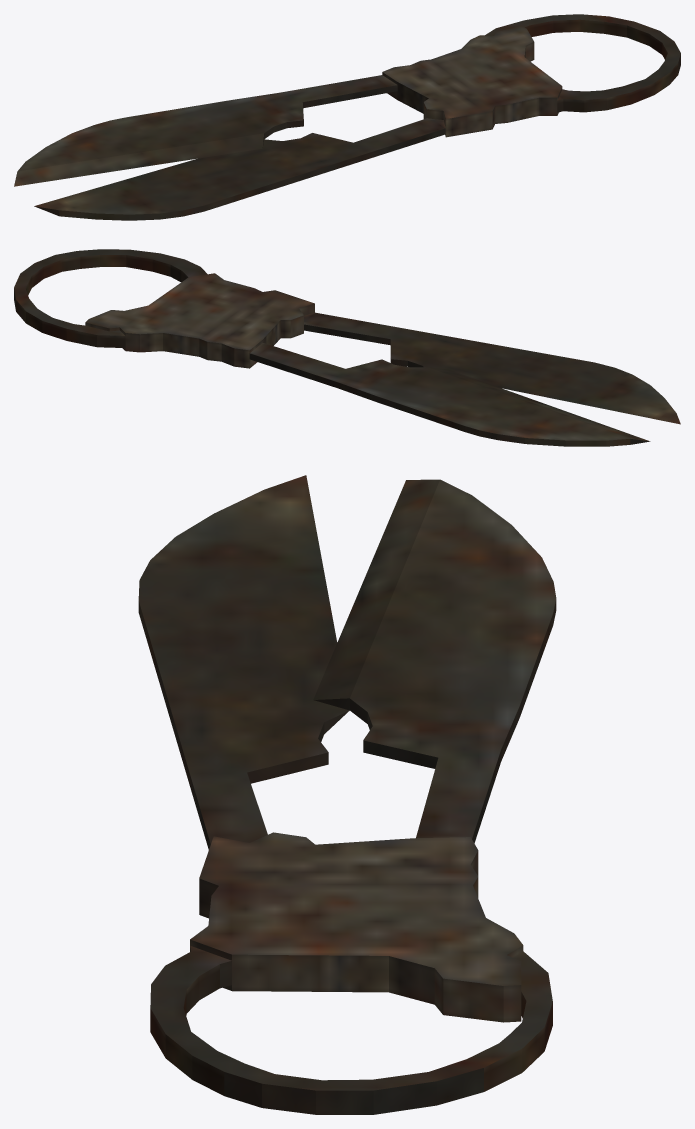
The model's file is misc_tool_mx_2.obj.
The picture shows the model from 3 angles, top to bottom: view 1: azimuth 30°, elevation 25°; view 2: azimuth 150°, elevation 25°; view 3: azimuth 270°, elevation 25°; orthographic projection. The views are drawn at different scales.
Parts seen in each view (by area): view 1: misc_tool_mx_2; view 2: misc_tool_mx_2; view 3: misc_tool_mx_2.
Part boxes in pixels (x1=…): misc_tool_mx_2: x1=14, y1=14, x2=680, y2=220; misc_tool_mx_2: x1=14, y1=249, x2=680, y2=446; misc_tool_mx_2: x1=138, y1=475, x2=556, y2=1114.
Size of the model in its own units: 0.2768 by 0.0075 by 0.0778.
